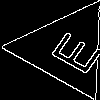E: (40, 24, 100, 77)
